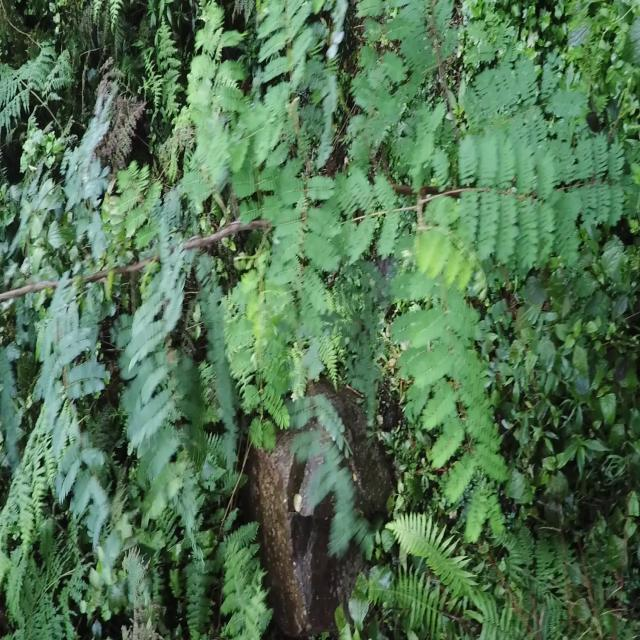Mysore-Thorn-Weed: (0, 16, 621, 520)
